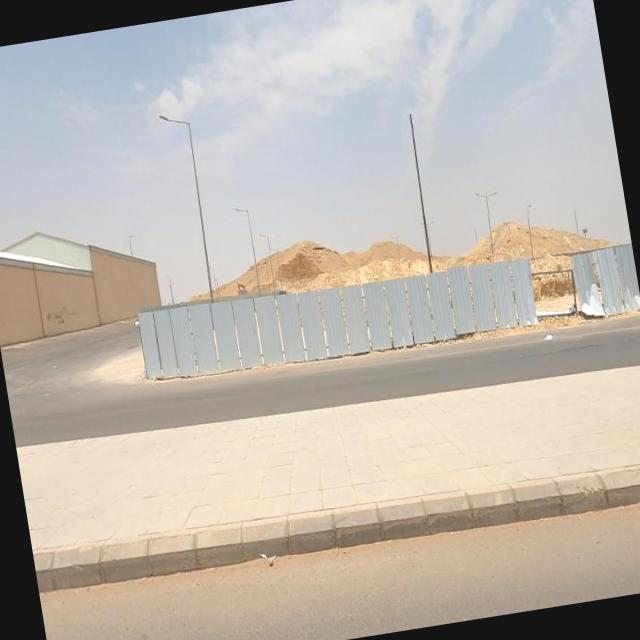debris: (530, 318, 566, 361)
